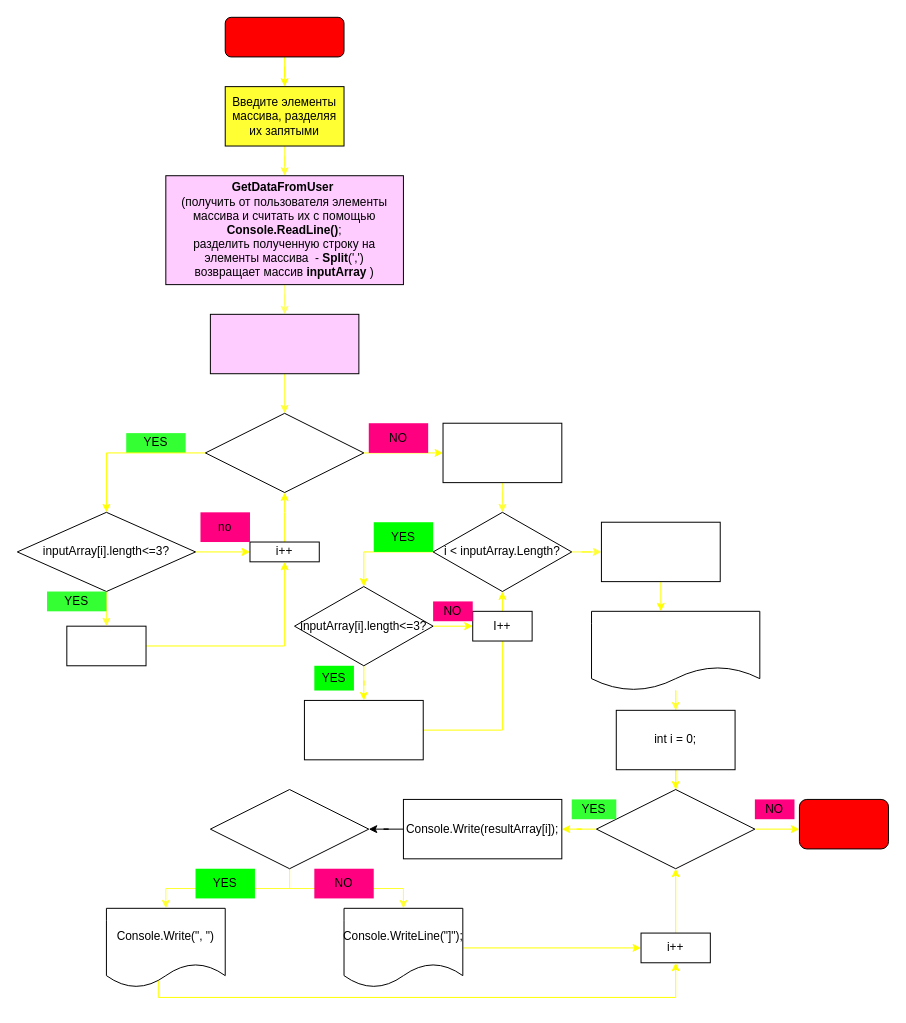
Image size: 906x1023. Some labels were removed from this diagram. Here are the shapes that lost their labels. From the top down, the box of each, then its label:
(224, 16, 344, 57): START
(209, 313, 359, 374): FilterArray ( принимает string [] inputArray) int count = 0; int i = 0;
(204, 412, 364, 493): i<inputArray.length?
(442, 422, 562, 483): string[] resultArray = new string[count]; int index = 0; i=0;
(600, 521, 720, 582): return resultArray;
(66, 625, 146, 666): count++
(591, 610, 760, 691): Console.Write("Результат: [");
(303, 699, 423, 760): resultArray[index] = inputArray[i]; index++;
(209, 789, 369, 869): i < resultArray.Length - 1?
(595, 789, 755, 869): i < resultArray.Length?
(798, 798, 889, 849): END
